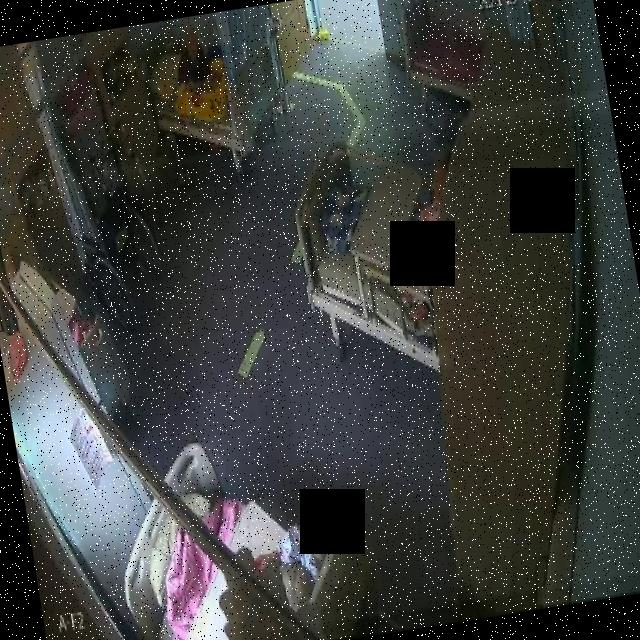bed: (102, 417, 377, 640), (288, 130, 466, 378), (143, 25, 290, 162), (394, 0, 493, 109)
